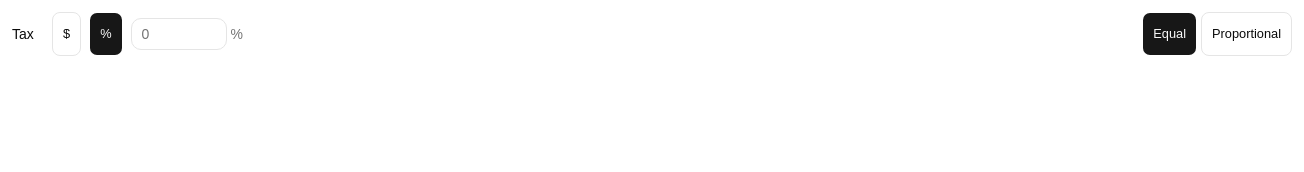
Test: TaxControl › TAX-01 non-numeric input shows validation error
The width and height of the screenshot is (1304, 172).
Type "abc" into the field named "Tax percentage".
click(178, 34); type("abc")  # box [130,18,226,50]
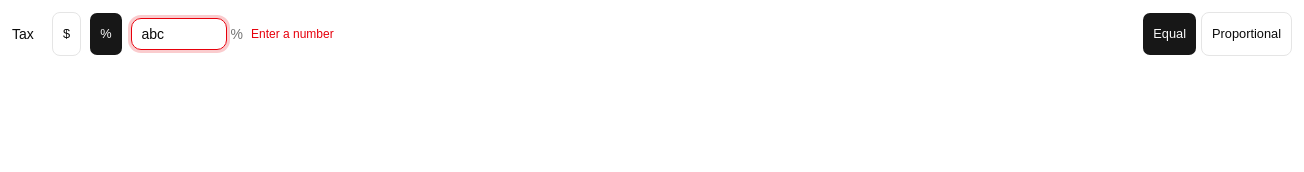
Now the message reads "Enter a number", box [251,27,334,41]
